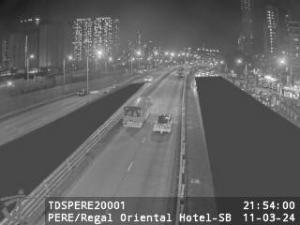bus: (121, 95, 151, 129)
truck: (154, 113, 172, 133)
vehicle: (77, 90, 86, 96), (146, 76, 152, 82)
